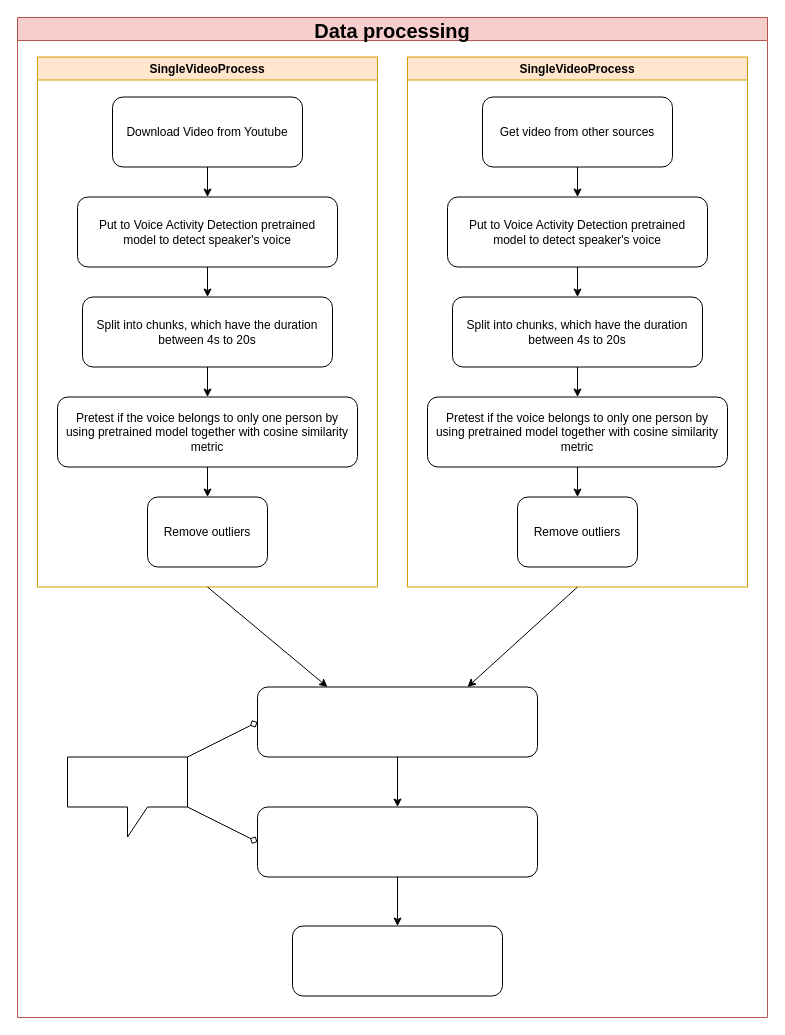
Some shapes in this 785 by 1035 pixel diagram are drawn without their labels. Each missing label, with the centre of its shape:
"Check voice conflict among videos which have different speaker" goes at point 397,841.
"Check voice similarity among videos which have the same speaker" goes at point 397,721.
"Use some rules to create train and validation datasets" goes at point 397,960.
"using pretrained model" goes at point 127,796.
